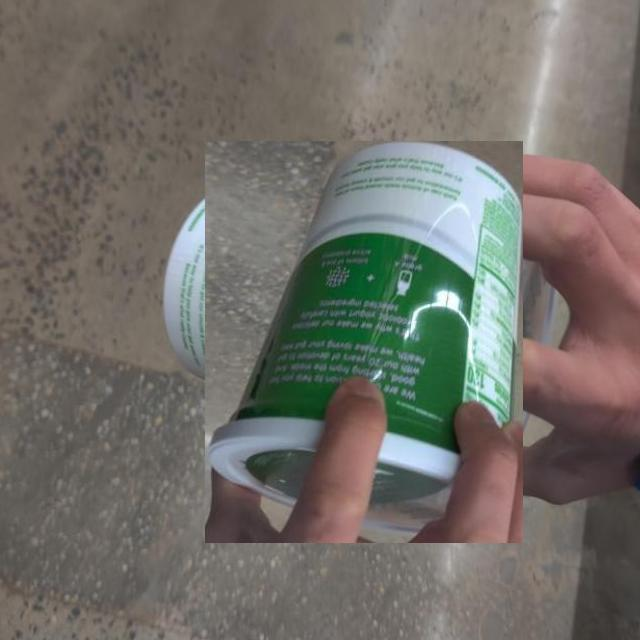Yogurt: (205, 141, 523, 543)
